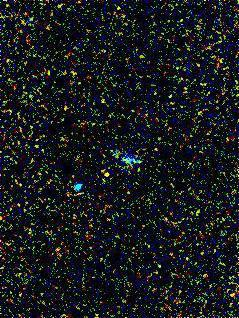star: (90, 162, 120, 192)
